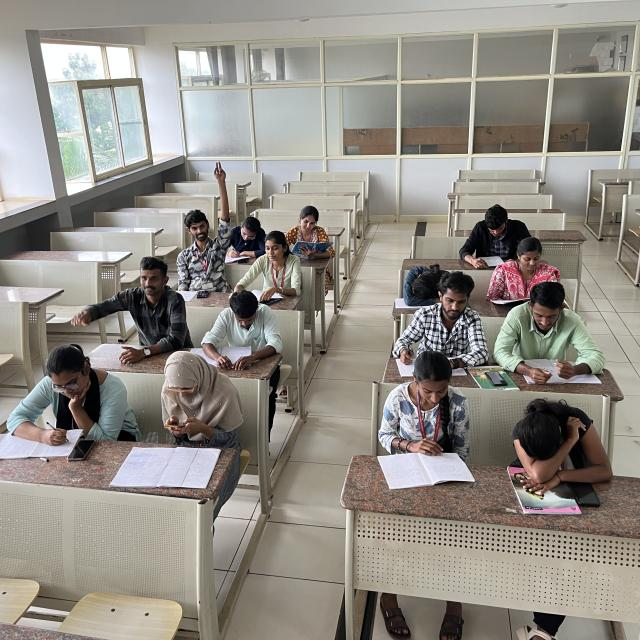Hand Rising: (172, 160, 234, 289)
Reading: (378, 350, 470, 480), (490, 239, 570, 312), (208, 292, 282, 366), (459, 203, 531, 271), (290, 202, 339, 261)
Sleeping: (506, 398, 613, 488), (395, 257, 447, 305)
Using Phone: (148, 344, 234, 437)
Writing: (7, 342, 120, 450), (502, 281, 607, 378), (227, 215, 269, 261)
